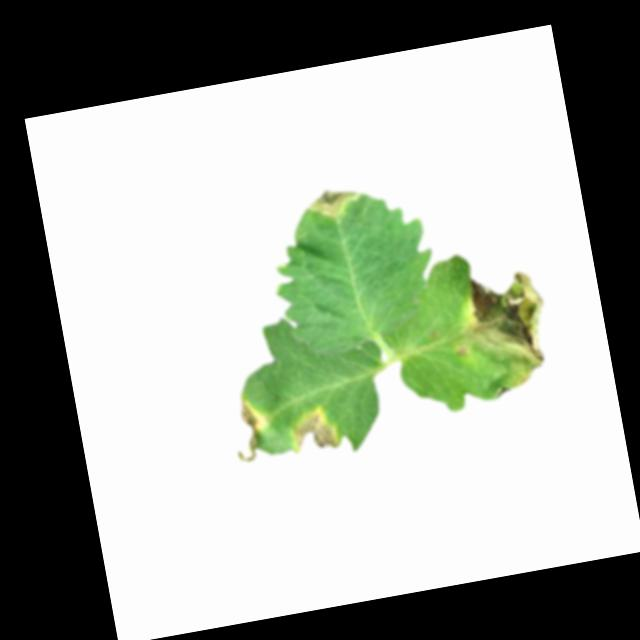Late_blight: (451, 263, 561, 403), (227, 393, 273, 464), (288, 401, 342, 456), (305, 182, 361, 220)
